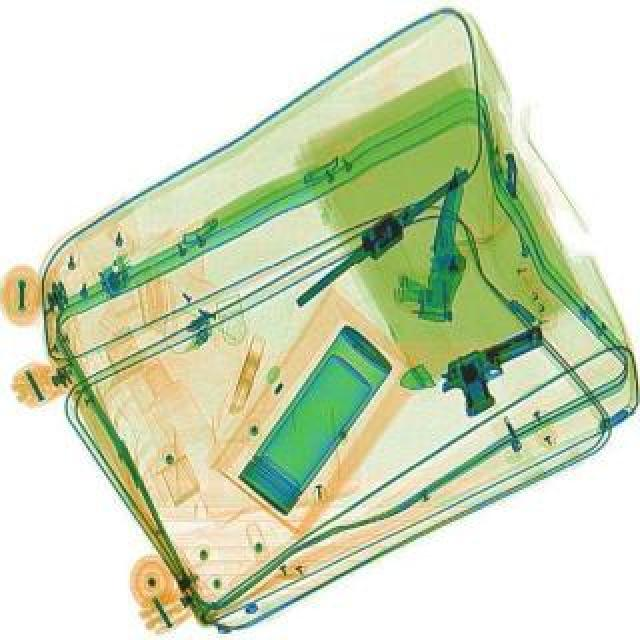gun: (428, 320, 566, 422)
